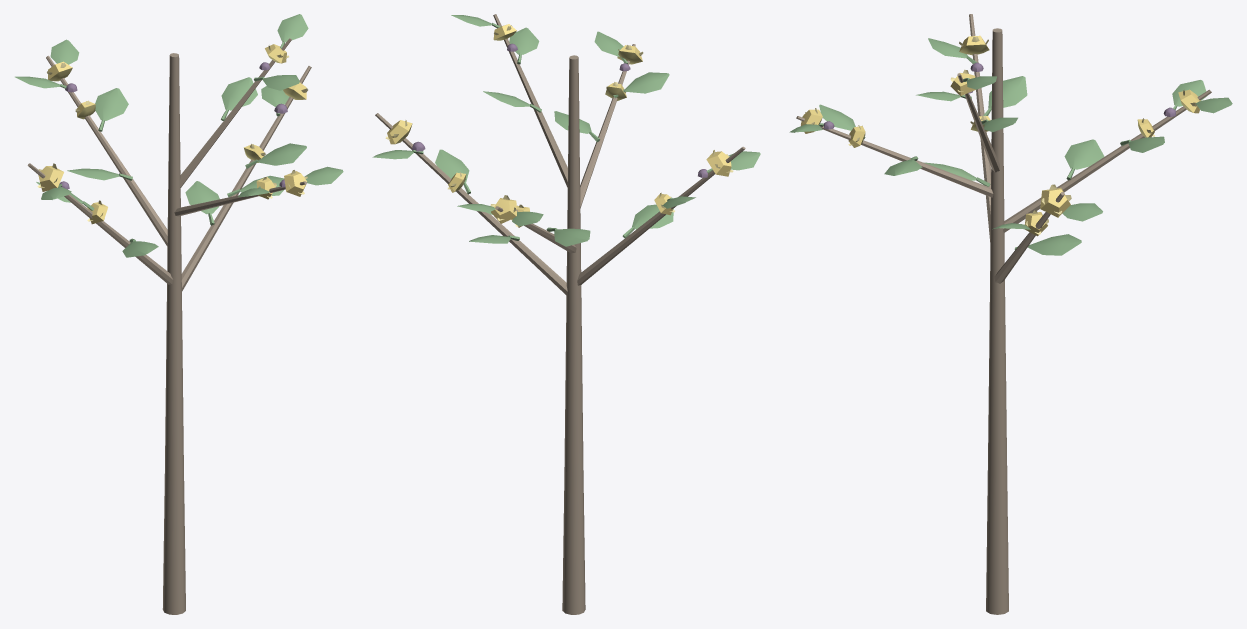
File: osmanthus.glb
3 views of the same model, side by side, from view 1: azimuth 30°, elevation 25°; view 2: azimuth 150°, elevation 25°; view 3: azimuth 270°, elevation 25° (orthographic). The views are drawn at different scales.
Visible parts, largest first — view 1: stem, foliage, flower; view 2: stem, foliage, flower; view 3: stem, foliage, flower.
Boxes of the visible parts, x1,y1,x2,y2 form: stem: (27, 38, 311, 614); foliage: (15, 14, 343, 257); flower: (37, 44, 307, 224); stem: (375, 14, 745, 614); foliage: (372, 15, 760, 246); flower: (385, 24, 733, 227); stem: (796, 14, 1211, 614); foliage: (789, 38, 1232, 255); flower: (801, 35, 1200, 236).
Bounding box in the file's own units: 0.5864 × 0.9697 × 0.6592.
